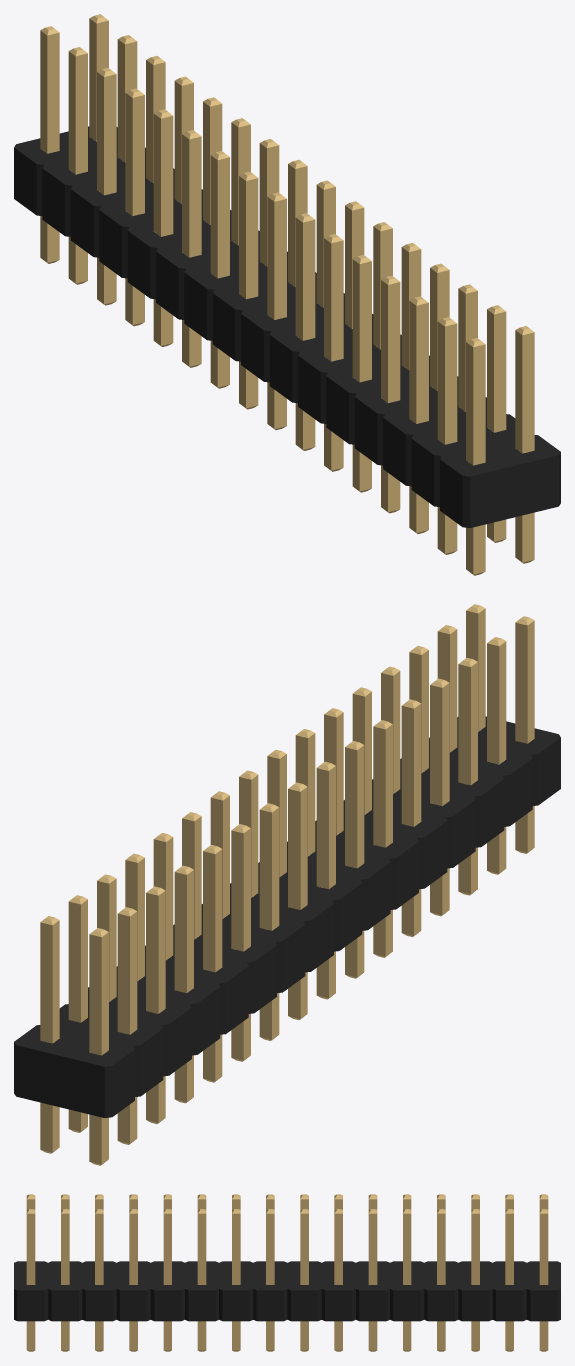
Rendered from kc-pinheader_2x16_p2.54mm_vertical.glb.
3 views of the same model, one above another, from view 1: azimuth 30°, elevation 25°; view 2: azimuth 150°, elevation 25°; view 3: azimuth 270°, elevation 25° (orthographic). The views are drawn at different scales.
Visible parts, largest first — view 1: 0.75_0.5_0.25_0.9, 0_0_0_0; view 2: 0.75_0.5_0.25_0.9, 0_0_0_0; view 3: 0_0_0_0, 0.75_0.5_0.25_0.9.
Boxes of the visible parts, left/top/right/bottom form: 0.75_0.5_0.25_0.9: left=40, top=14, right=534, bottom=575; 0_0_0_0: left=14, top=126, right=560, bottom=527; 0.75_0.5_0.25_0.9: left=40, top=604, right=534, bottom=1165; 0_0_0_0: left=14, top=716, right=560, bottom=1117; 0_0_0_0: left=14, top=1261, right=560, bottom=1321; 0.75_0.5_0.25_0.9: left=26, top=1194, right=548, bottom=1351.
Size of the model in its own units: 0.508 by 1.15 by 4.06.
